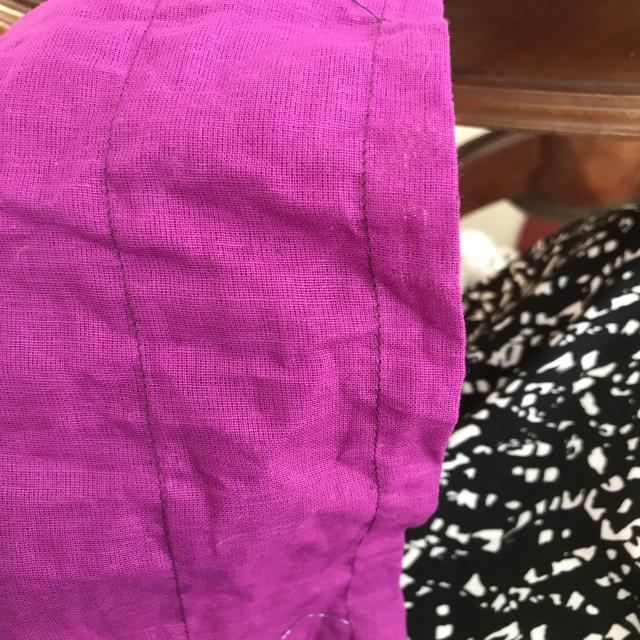good: (357, 313, 410, 400), (100, 272, 151, 354)
